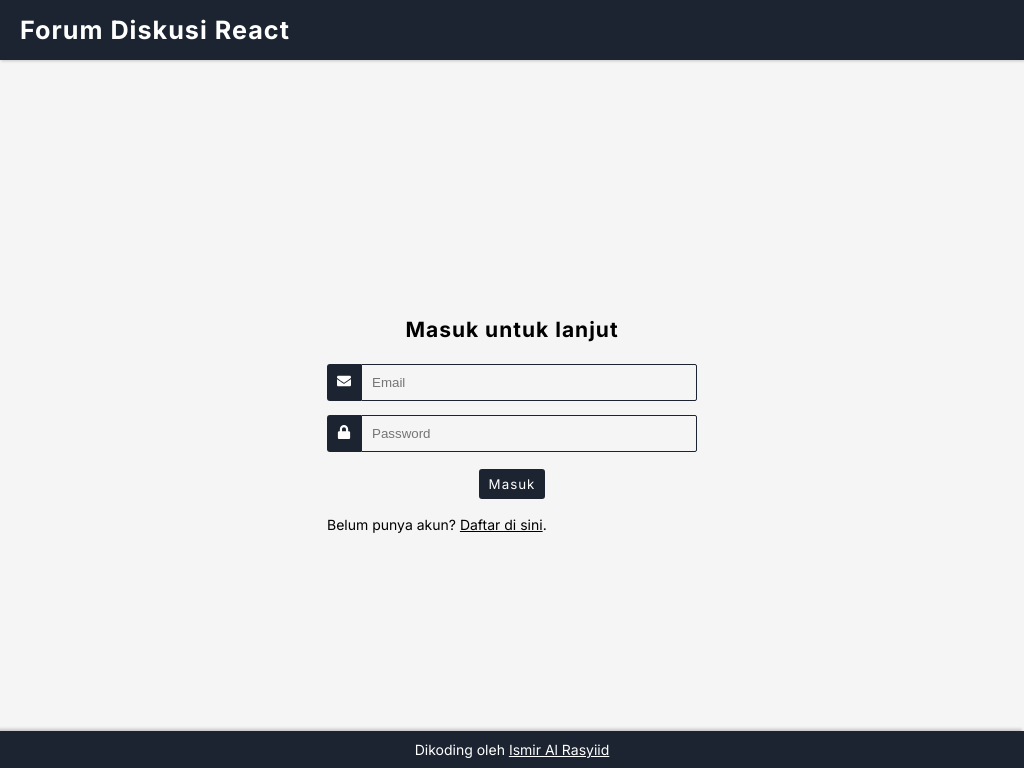
Test: Login feature e2e test › should redirect to register page when link is clicked
Click the link "Daftar di sini" at (502, 525), box x1=460 y1=516 x2=543 y2=533
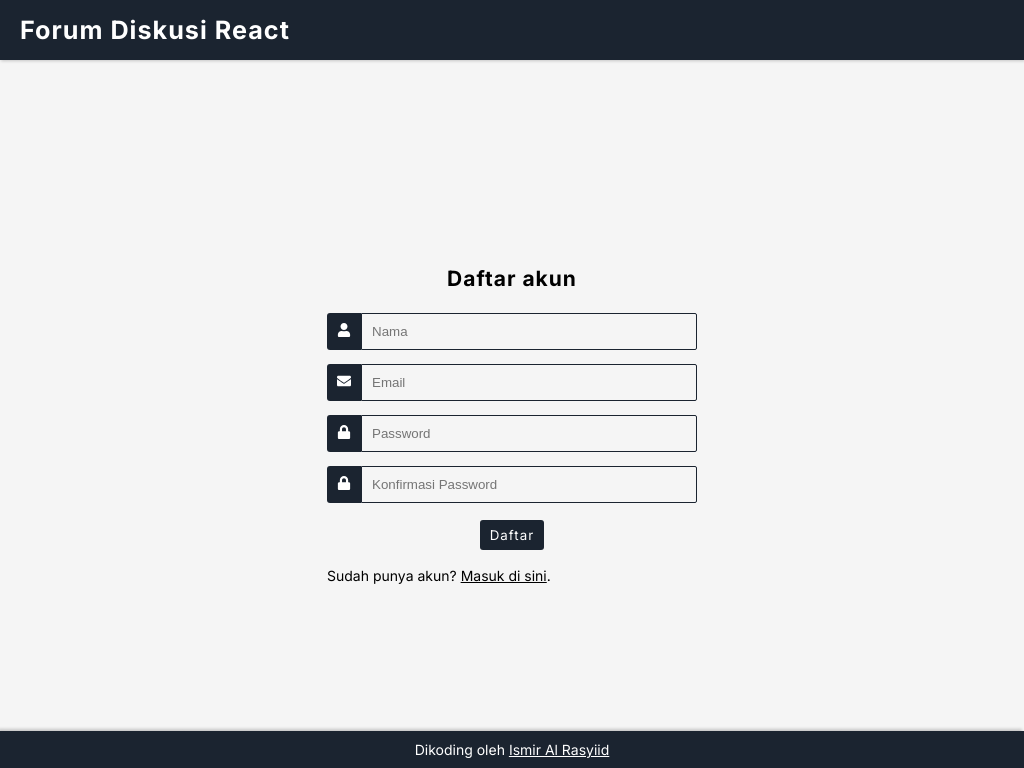
Expected: the heading "Daftar akun" is shown, x1=447 y1=266 x2=577 y2=290
